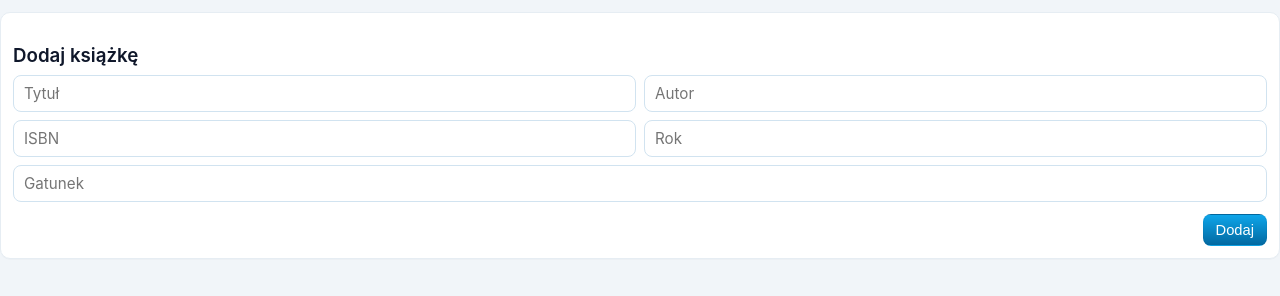
it: BookForm › shows error for missing required fields
What coordinates should you click on to do the following:
click the button "Dodaj"
I would click on:
 (1235, 230)
Its box is [1202,214,1267,246].
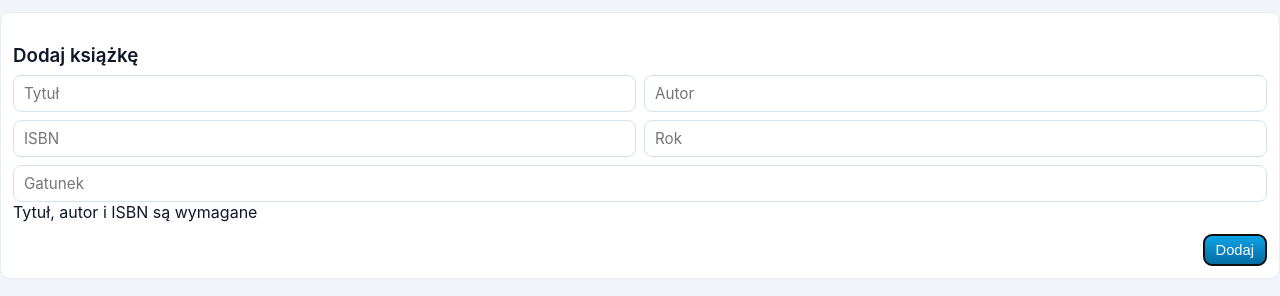
Check: the text "Tytuł, autor i ISBN są wymagane" is shown, box [13,202,257,222]
